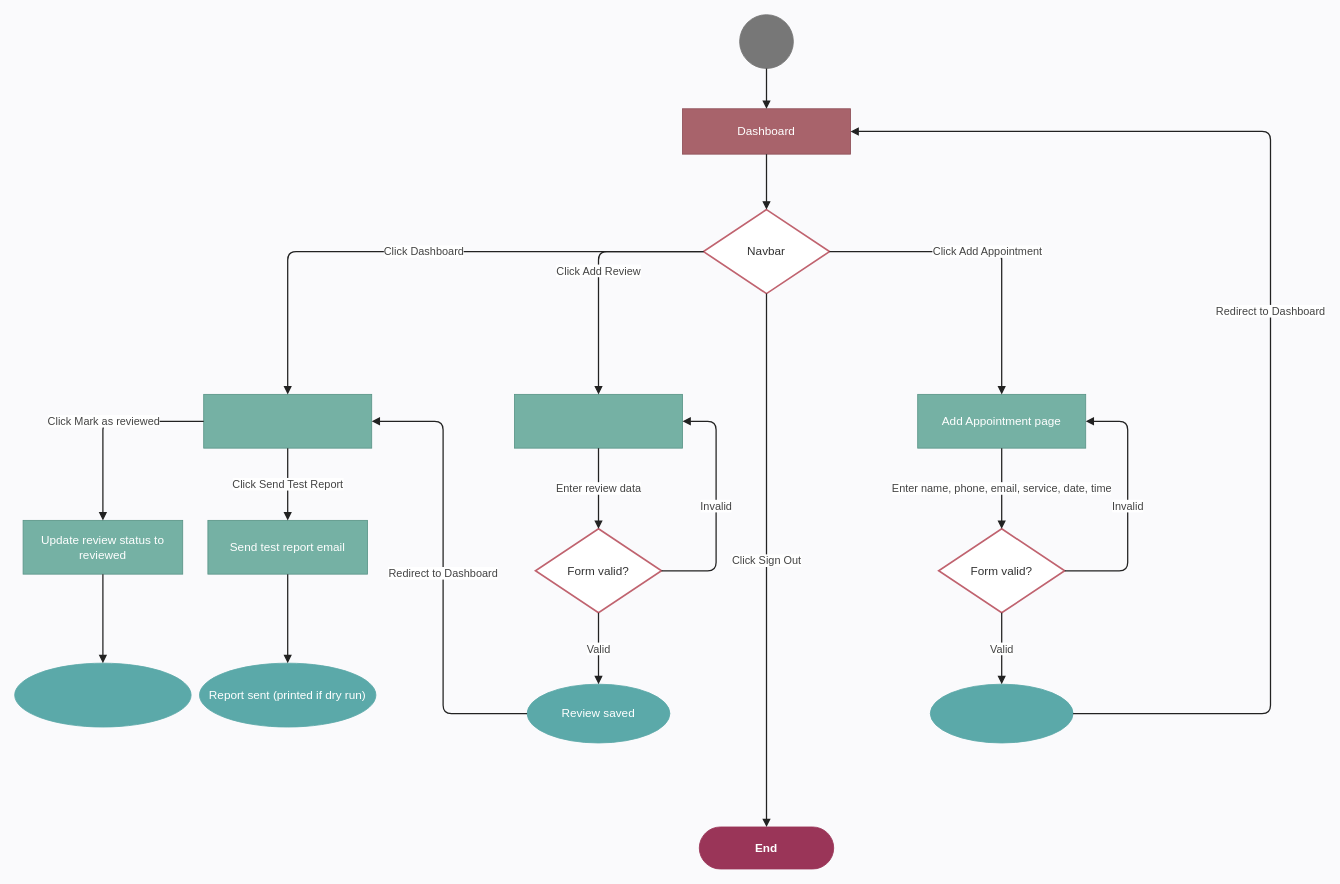
Some shapes in this 1340 by 884 pixel diagram are drawn without their labels. Here are the shapes that lost their labels. From the top down, the centre of each, then its label:
(x=766, y=41): Start
(x=287, y=421): Dashboard page
(x=598, y=421): Add Review page
(x=102, y=694): Review moves to Reviewed panel
(x=1001, y=713): Appointment saved
